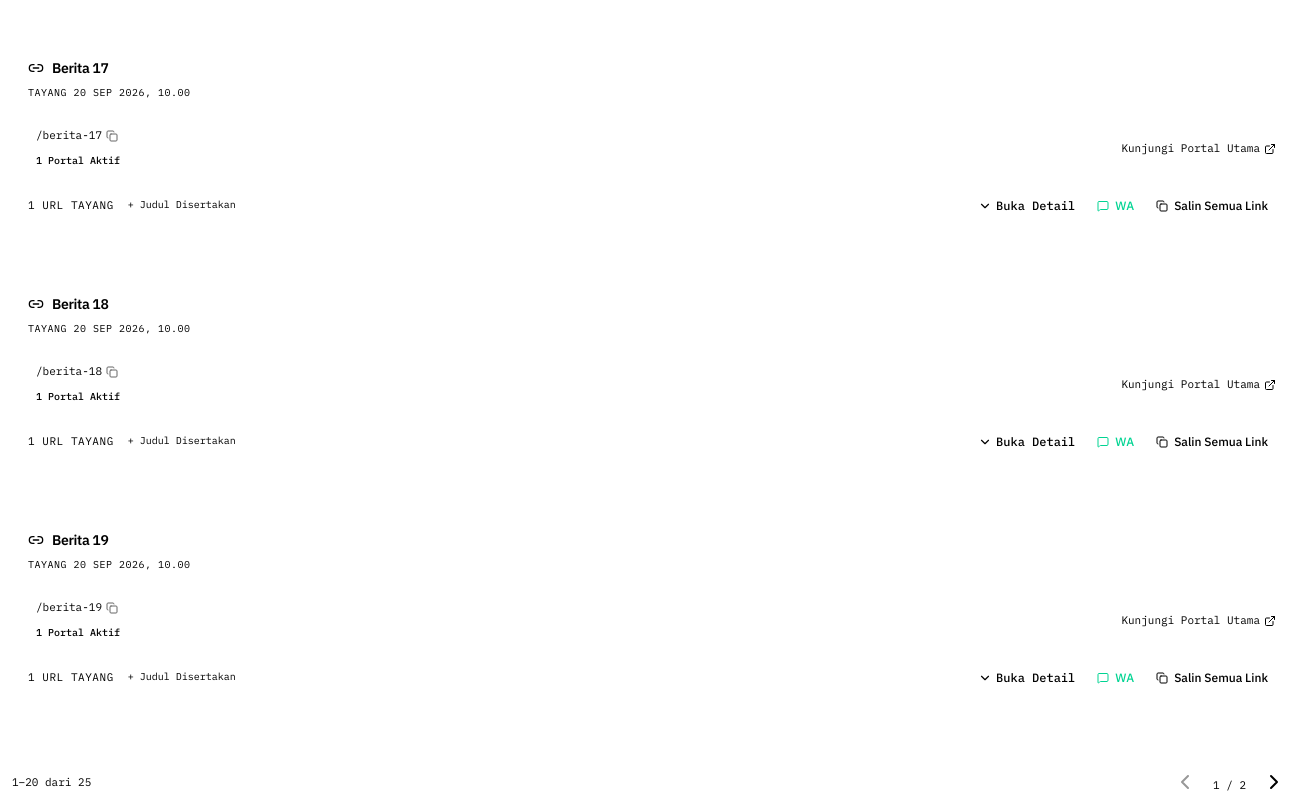
Test: PublishedUrlBoard pagination › merender 20 kartu per halaman dan sisa artikel di halaman berikutnya
The image size is (1292, 800).
(page scrolled)
Check: the message reads "1–20 dari 25", box [12,774,91,791]
Check: the text "Berita 19" is shown, box [52,530,108,548]
What coordinates should you click on to do the following:
click the button named "Ke halaman berikutnya"
I would click on:
 (1274, 782)
Its box is [1262,770,1286,794].
(page scrolled)
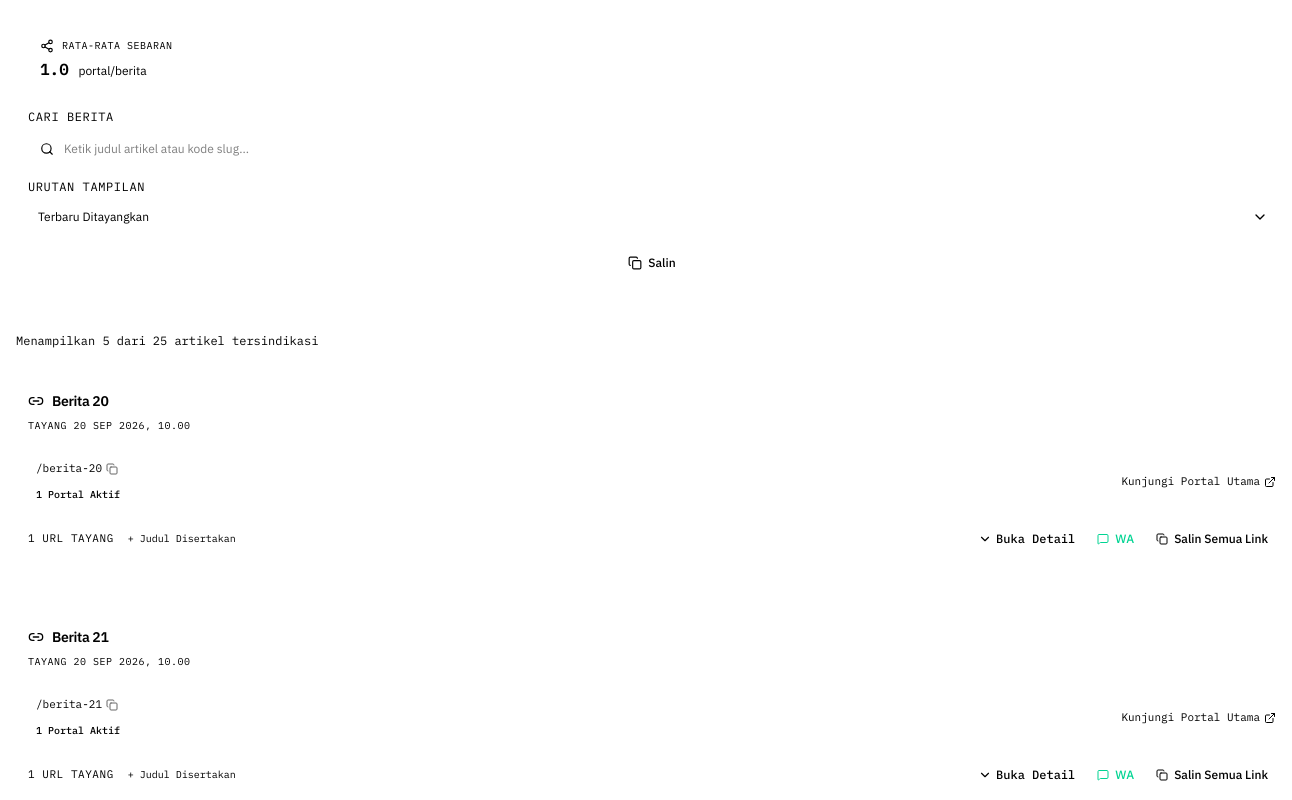
Check: the text "Berita 20" is shown, box [52,392,108,410]
Check: the text "Berita 19" is gone
